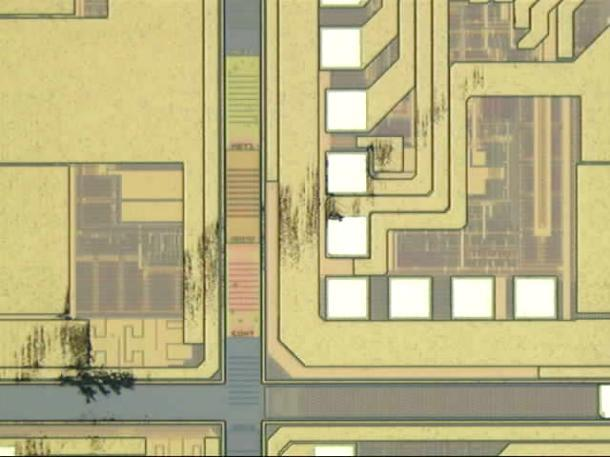SCRATCH: (1, 60, 492, 457)
